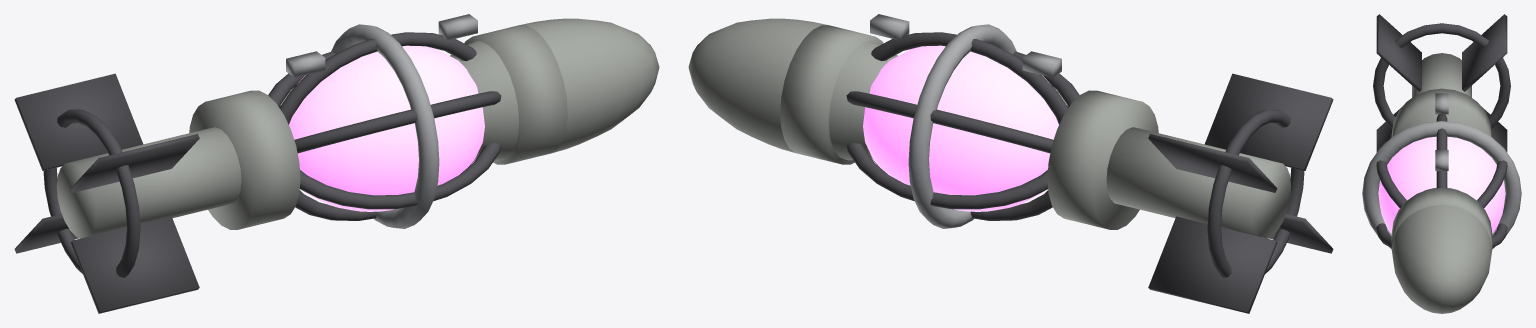
Rendered from exp_plasma.glb.
The picture shows the model from 3 angles, left to right: view 1: azimuth 30°, elevation 25°; view 2: azimuth 150°, elevation 25°; view 3: azimuth 270°, elevation 25°; orthographic projection. The views are drawn at different scales.
Visible parts, largest first — view 1: exp_plasma; view 2: exp_plasma; view 3: exp_plasma.
Part boxes in pixels (left/top/right/bottom): exp_plasma: left=14, top=14, right=659, bottom=313; exp_plasma: left=688, top=14, right=1333, bottom=313; exp_plasma: left=1362, top=14, right=1521, bottom=313.
Bounding box in the file's own units: 0.7825 × 0.238 × 0.238.
